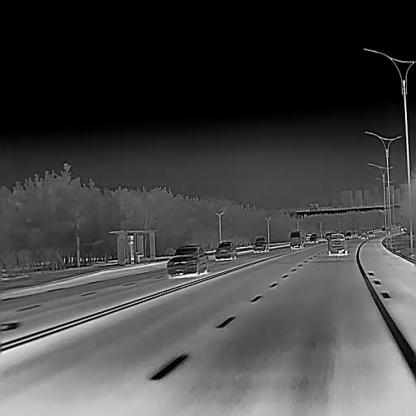car: (166, 244, 209, 274), (326, 233, 348, 254), (214, 240, 236, 258), (253, 236, 269, 251), (309, 232, 320, 242), (344, 230, 352, 238), (324, 232, 330, 240), (361, 231, 367, 237), (306, 233, 310, 240), (369, 230, 373, 236)
truck: (289, 230, 304, 248)
